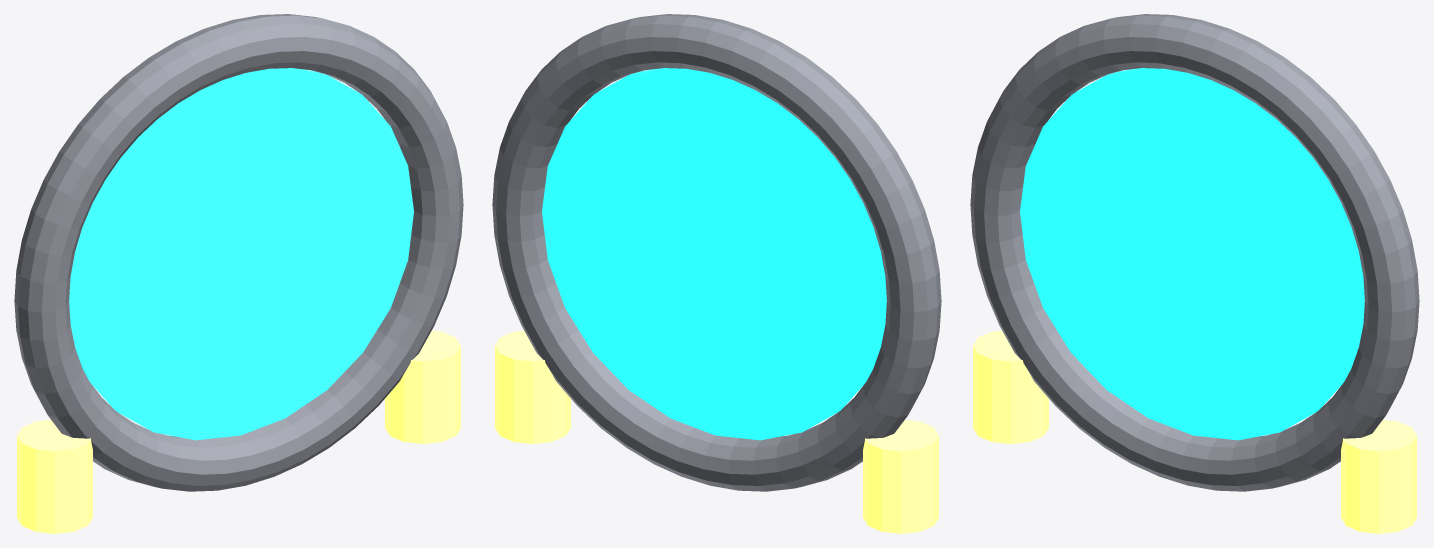
The model's file is portal_gate.glb.
3 views of the same model, side by side, from view 1: azimuth 30°, elevation 25°; view 2: azimuth 150°, elevation 25°; view 3: azimuth 330°, elevation 25° (orthographic).
Visible parts, largest first — view 1: PortalVortex, PortalArch, PortalPillar_-1.4, PortalPillar_1.4; view 2: PortalVortex, PortalArch, PortalPillar_-1.4, PortalPillar_1.4; view 3: PortalVortex, PortalArch, PortalPillar_1.4, PortalPillar_-1.4.
Part boxes in pixels (x1,y1,x2,y2): PortalVortex: (69,68,413,440); PortalArch: (14,14,463,491); PortalPillar_-1.4: (17,420,92,533); PortalPillar_1.4: (385,330,460,443); PortalVortex: (542,68,886,440); PortalArch: (492,14,941,491); PortalPillar_-1.4: (863,420,938,533); PortalPillar_1.4: (495,330,570,443); PortalVortex: (1020,68,1364,440); PortalArch: (970,14,1419,491); PortalPillar_1.4: (1341,420,1416,533); PortalPillar_-1.4: (973,330,1048,443).
Bounding box in the file's own units: 3.36 × 3.36 × 0.5.
